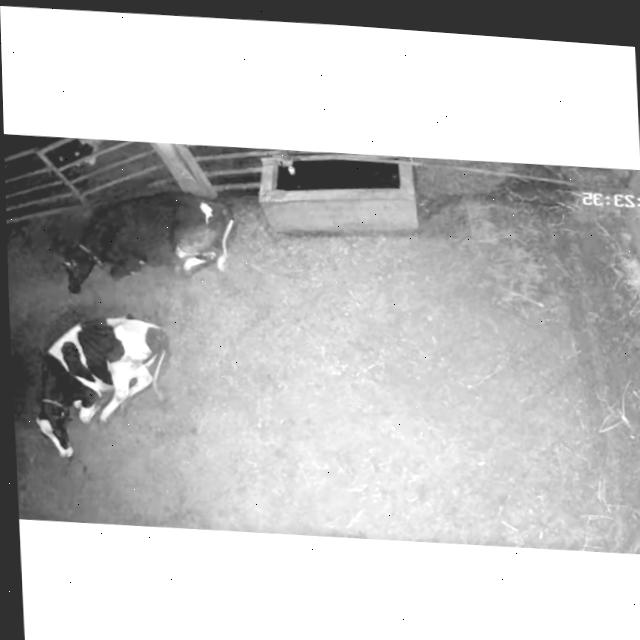lay: (45, 162, 247, 316), (20, 296, 179, 477)
